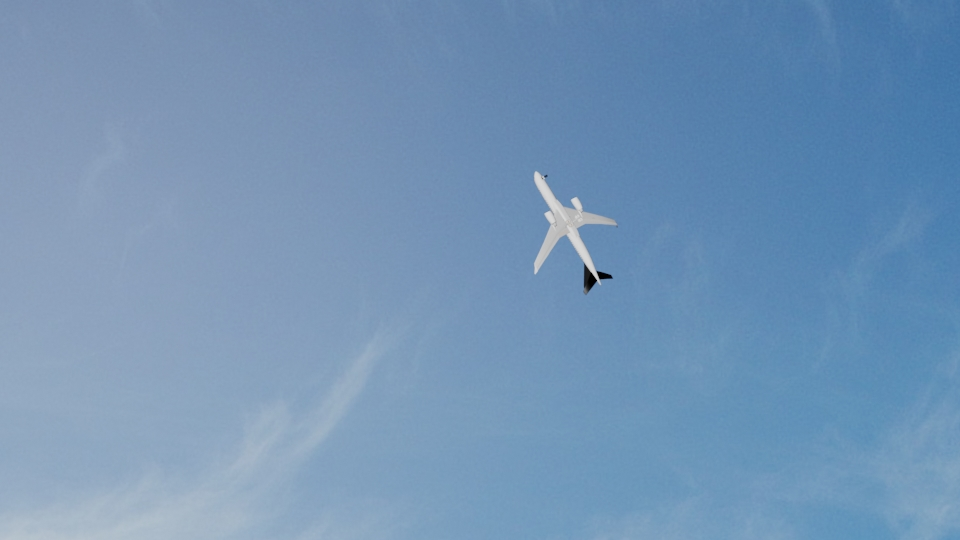plane: (529, 169, 619, 295)
